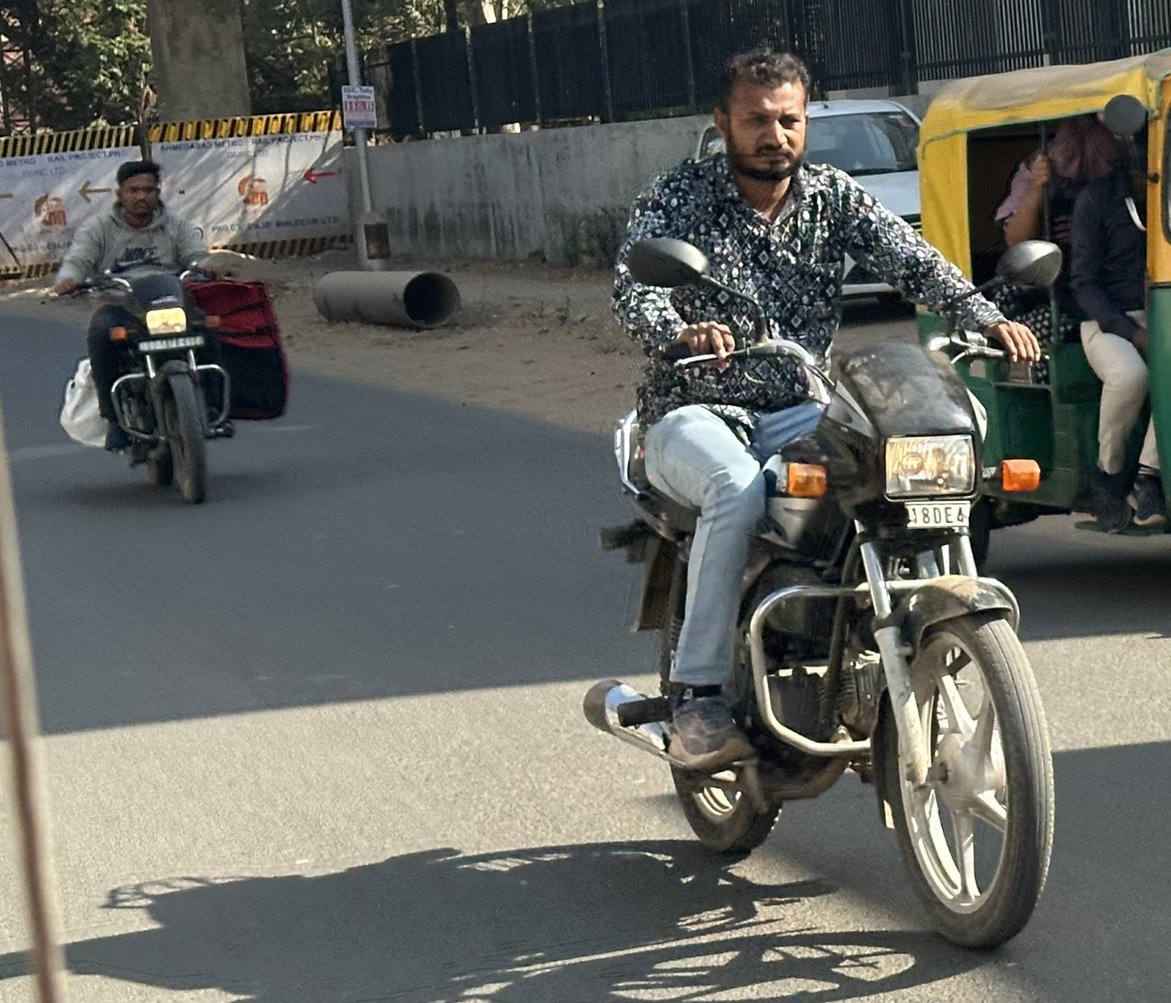BikeWithRider: (574, 34, 1070, 960), (35, 154, 293, 512)
NoHelmet: (697, 38, 829, 186), (99, 154, 177, 231)
